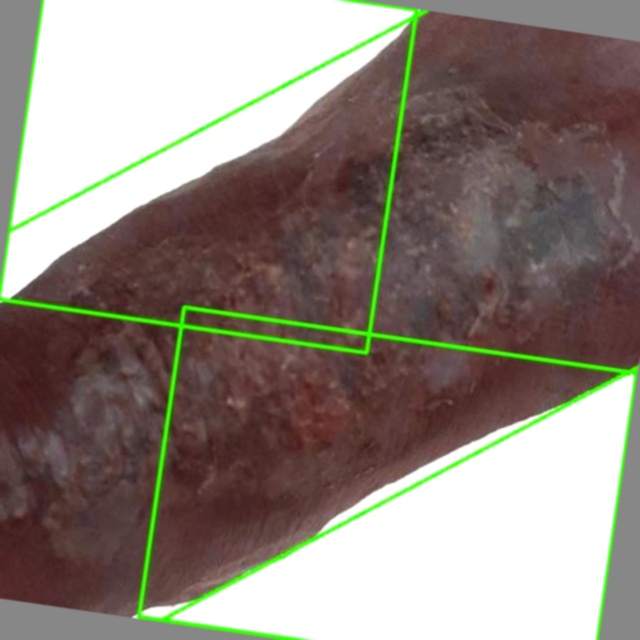Contact Dermatitis: (0, 32, 639, 603), (137, 308, 636, 639), (0, 0, 416, 352)
